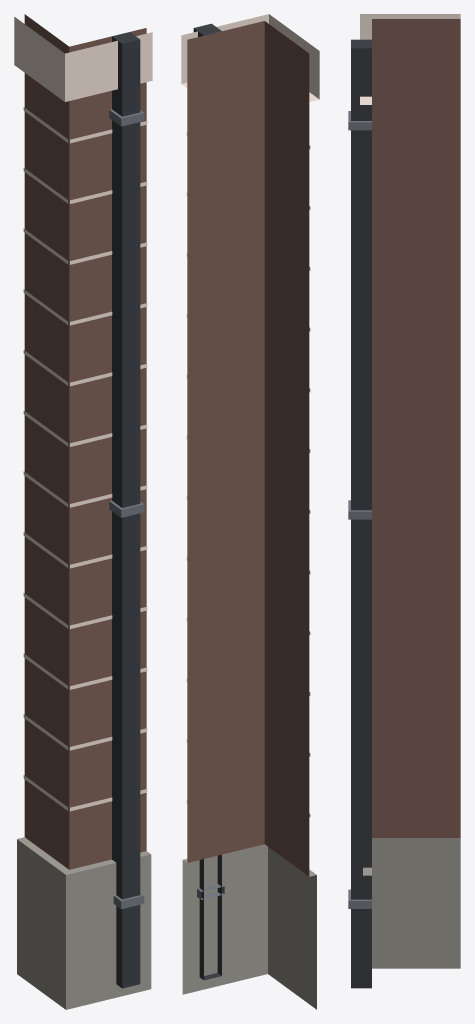
File: base-c1_close.fbx
3 renders of one model, left to right at view 1: azimuth 30°, elevation 25°; view 2: azimuth 210°, elevation 25°; view 3: azimuth 270°, elevation 25°, orthographic.
Parts seen in each view (by area): view 1: a2000s3/600/base-c1_close; view 2: a2000s3/600/base-c1_close; view 3: a2000s3/600/base-c1_close.
Boxes of the visible parts, box(x1,y1,x2,y2) form: a2000s3/600/base-c1_close: box(14, 14, 152, 1009); a2000s3/600/base-c1_close: box(181, 14, 319, 1009); a2000s3/600/base-c1_close: box(348, 14, 460, 988).
Bounding box in the file's own units: 0.34 × 3.55 × 0.38.
